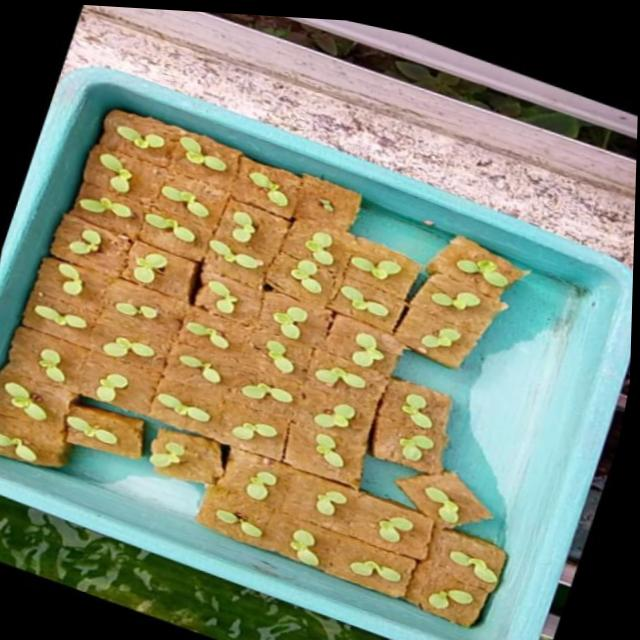Baby: (32, 345, 85, 394), (419, 576, 484, 615), (413, 476, 464, 525), (428, 544, 477, 586), (109, 290, 170, 323), (195, 278, 244, 316), (75, 189, 135, 219), (351, 557, 413, 586), (332, 286, 386, 319), (318, 361, 367, 397), (207, 239, 261, 269), (178, 137, 225, 171), (316, 404, 371, 432), (63, 217, 102, 255), (143, 214, 194, 243), (453, 262, 504, 290), (247, 172, 287, 207), (178, 354, 223, 384), (36, 306, 88, 330), (400, 435, 434, 471), (187, 322, 230, 350), (100, 155, 131, 193), (349, 333, 382, 367), (271, 307, 305, 340), (132, 252, 168, 283), (291, 528, 320, 565), (117, 128, 165, 150), (351, 255, 399, 277), (289, 260, 320, 294), (242, 383, 293, 403), (105, 338, 156, 358), (317, 433, 345, 469), (266, 341, 295, 374), (302, 234, 330, 267), (247, 471, 278, 500), (400, 394, 432, 422), (427, 294, 476, 312), (376, 515, 411, 540), (161, 187, 199, 210), (98, 374, 129, 402), (61, 262, 86, 295), (417, 329, 457, 349), (316, 491, 347, 515), (230, 211, 253, 243), (235, 422, 270, 440)
